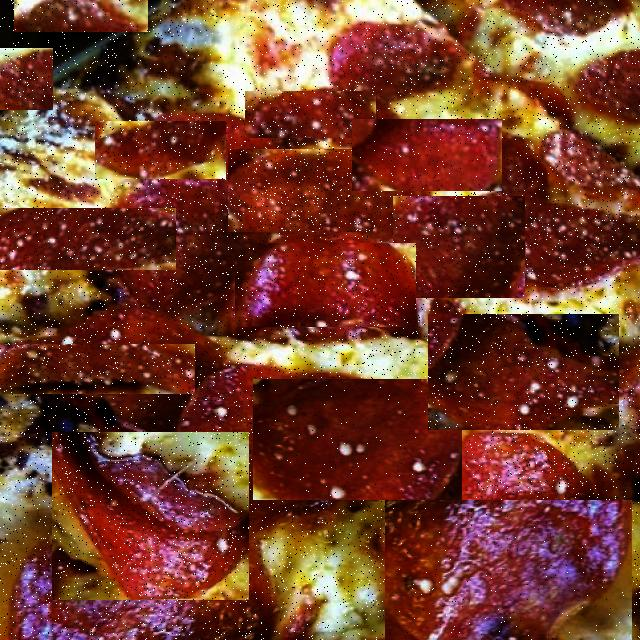Pepperoni: (385, 500, 632, 640), (52, 432, 249, 600), (253, 379, 462, 500), (428, 314, 619, 430), (235, 243, 416, 327), (393, 196, 525, 298), (228, 149, 373, 232), (0, 208, 176, 270), (352, 119, 502, 191), (0, 344, 195, 394), (182, 24, 312, 94), (95, 121, 226, 179), (245, 91, 376, 138), (0, 131, 90, 184), (15, 0, 148, 32), (0, 48, 53, 110)
Pizza: (0, 0, 640, 640)
